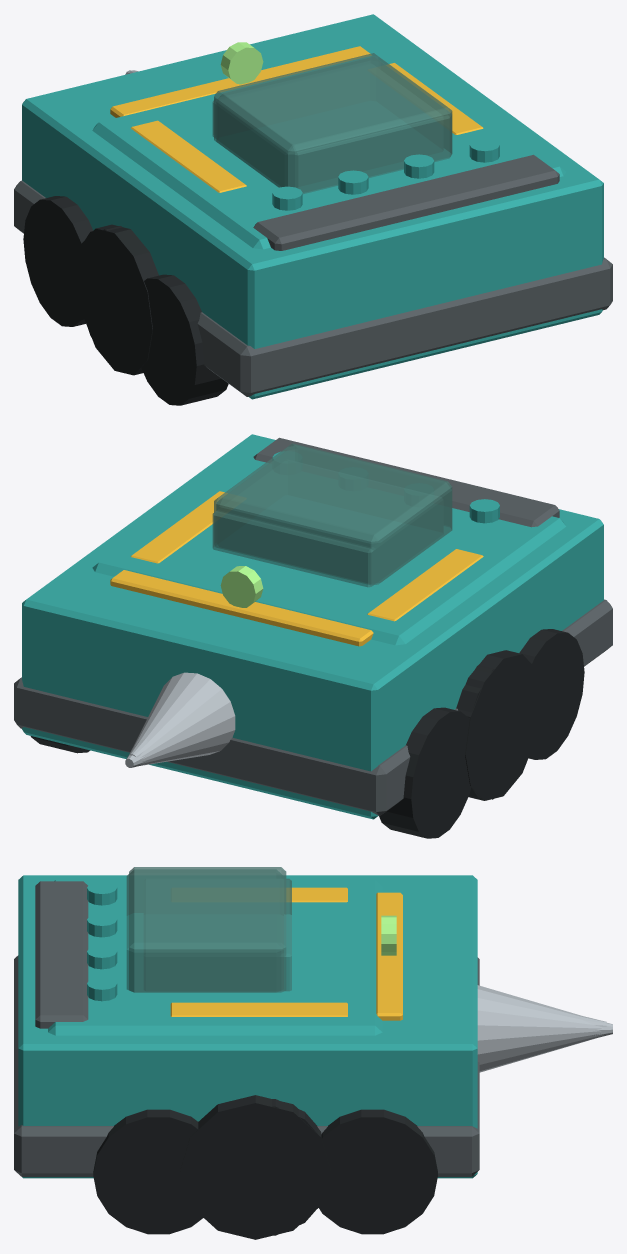
The model's file is pipeline_reference_vehicle.glb.
The picture shows the model from 3 angles, top to bottom: view 1: azimuth 30°, elevation 25°; view 2: azimuth 150°, elevation 25°; view 3: azimuth 270°, elevation 25°; orthographic projection.
Parts seen in each view (by area): view 1: Body_Hero_Hull_Strategic, Glass_Hero_Canopy_Combat, Glass_Hero_Canopy_Close, Body_Hero_Hull_Combat, Neutral_Hero_Chassis_Close, Neutral_Support_RearFrame_Close, Neutral_Hero_Chassis_Combat, Rubber_Hero_Locomotion_Strategic, Rubber_Hero_WheelLeft2_Close, Rubber_Hero_WheelLeft1_Close, Accent_Support_HazardBand_Combat, Accent_Support_HazardLeft_Close (+7 smaller); view 2: Body_Hero_Hull_Strategic, Glass_Hero_Canopy_Combat, Body_Hero_Hull_Combat, Glass_Hero_Canopy_Close, Neutral_Hero_Chassis_Combat, Glass_Hero_Canopy_Strategic, Neutral_Hero_Chassis_Close, Rubber_Hero_Locomotion_Strategic, Rubber_Hero_WheelLeft1_Close, Tool_Hero_Drill_Close, Rubber_Hero_WheelLeft2_Close, Accent_Support_HazardBand_Combat (+6 smaller); view 3: Body_Hero_Hull_Strategic, Body_Hero_Hull_Combat, Glass_Hero_Canopy_Combat, Glass_Hero_Canopy_Close, Rubber_Hero_Locomotion_Strategic, Rubber_Hero_WheelRight1_Close, Rubber_Hero_WheelRight2_Close, Neutral_Hero_Chassis_Combat, Neutral_Support_RearFrame_Close, Tool_Hero_Drill_Close, Glass_Hero_Canopy_Strategic, Accent_Support_HazardBand_Combat (+8 smaller).
Boxes of the visible parts, x1,y1,x2,y2 form: Body_Hero_Hull_Strategic: [22, 14, 603, 399]; Glass_Hero_Canopy_Combat: [214, 53, 452, 192]; Glass_Hero_Canopy_Close: [216, 57, 452, 193]; Body_Hero_Hull_Combat: [92, 49, 565, 249]; Neutral_Hero_Chassis_Close: [15, 195, 607, 389]; Neutral_Support_RearFrame_Close: [253, 154, 559, 250]; Neutral_Hero_Chassis_Combat: [14, 180, 612, 396]; Rubber_Hero_Locomotion_Strategic: [76, 224, 158, 375]; Rubber_Hero_WheelLeft2_Close: [141, 274, 228, 405]; Rubber_Hero_WheelLeft1_Close: [23, 196, 93, 326]; Accent_Support_HazardBand_Combat: [110, 46, 371, 117]; Accent_Support_HazardLeft_Close: [131, 120, 246, 192]; Body_Hero_Hull_Strategic: [22, 434, 603, 819]; Glass_Hero_Canopy_Combat: [214, 443, 452, 584]; Body_Hero_Hull_Combat: [92, 445, 565, 645]; Glass_Hero_Canopy_Close: [216, 445, 452, 582]; Neutral_Hero_Chassis_Combat: [14, 599, 612, 815]; Glass_Hero_Canopy_Strategic: [212, 460, 442, 587]; Neutral_Hero_Chassis_Close: [19, 614, 611, 809]; Rubber_Hero_Locomotion_Strategic: [458, 650, 541, 800]; Rubber_Hero_WheelLeft1_Close: [379, 707, 471, 838]; Tool_Hero_Drill_Close: [129, 672, 235, 765]; Rubber_Hero_WheelLeft2_Close: [519, 629, 584, 759]; Accent_Support_HazardBand_Combat: [110, 570, 373, 646]; Body_Hero_Hull_Strategic: [18, 875, 477, 1178]; Body_Hero_Hull_Combat: [48, 880, 382, 1035]; Glass_Hero_Canopy_Combat: [129, 867, 286, 992]; Glass_Hero_Canopy_Close: [126, 869, 283, 992]; Rubber_Hero_Locomotion_Strategic: [180, 1095, 330, 1239]; Rubber_Hero_WheelRight1_Close: [319, 1109, 437, 1234]; Rubber_Hero_WheelRight2_Close: [93, 1109, 203, 1234]; Neutral_Hero_Chassis_Combat: [14, 955, 479, 1176]; Neutral_Support_RearFrame_Close: [35, 881, 88, 1028]; Tool_Hero_Drill_Close: [477, 985, 603, 1072]; Glass_Hero_Canopy_Strategic: [144, 878, 291, 991]; Accent_Support_HazardBand_Combat: [376, 892, 402, 1020].
Bounding box in the file's own units: 3.55 × 2.11 × 4.76.
